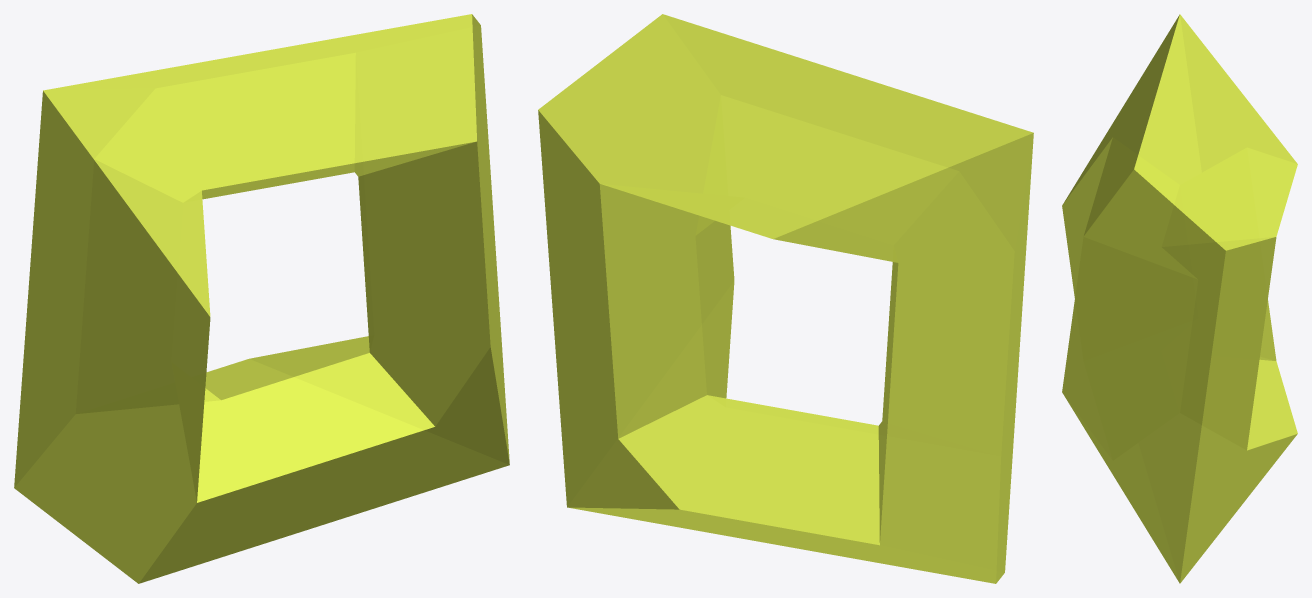
Rendered from CairoTiling_B.obj.
The picture shows the model from 3 angles, left to right: view 1: azimuth 30°, elevation 25°; view 2: azimuth 150°, elevation 25°; view 3: azimuth 270°, elevation 25°; orthographic projection. The views are drawn at different scales.
Size of the model in its own units: 11.2 by 11.2 by 6.16.
